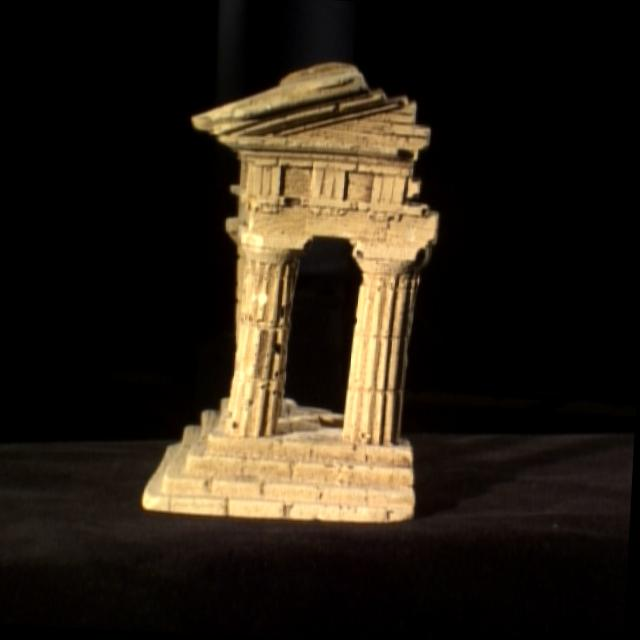Instance-Segmentation: (142, 66, 436, 523)
